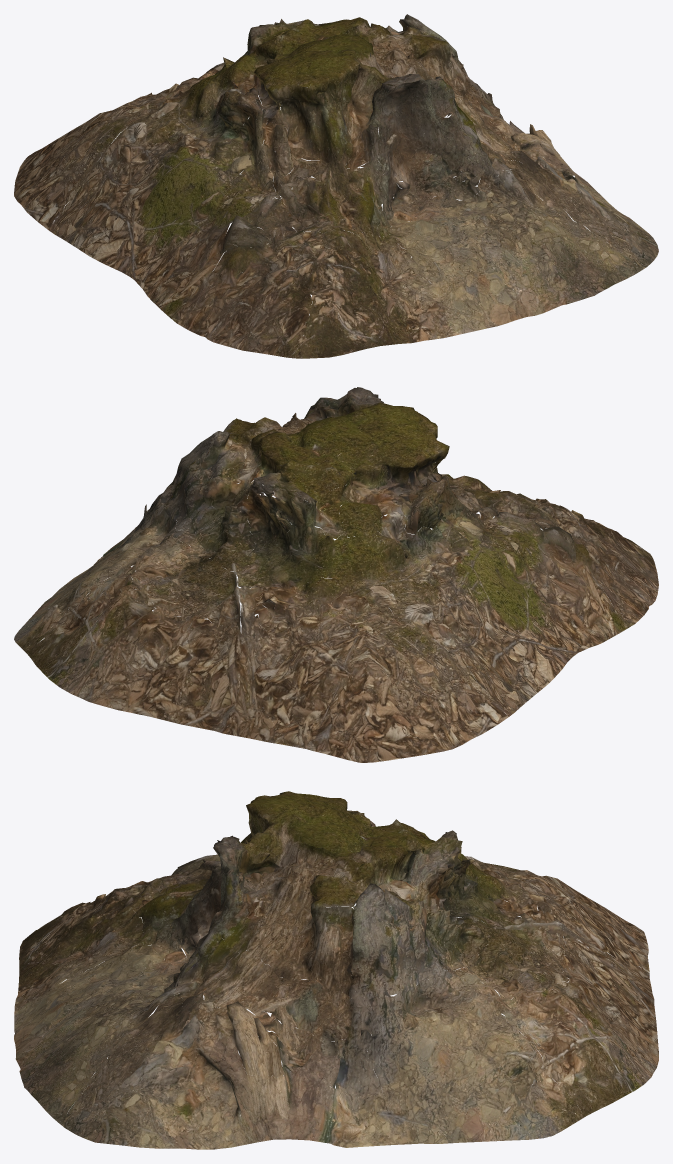
The model's file is tree_stump_01.glb.
3 renders of one model, top to bottom at view 1: azimuth 30°, elevation 25°; view 2: azimuth 150°, elevation 25°; view 3: azimuth 270°, elevation 25°, orthographic. The views are drawn at different scales.
Parts seen in each view (by area): view 1: tree_stump_01; view 2: tree_stump_01; view 3: tree_stump_01.
Boxes of the visible parts, x1=… form: tree_stump_01: x1=14, y1=14, x2=658, y2=358; tree_stump_01: x1=14, y1=387, x2=658, y2=762; tree_stump_01: x1=14, y1=791, x2=658, y2=1149.
Bounding box in the file's own units: 1.42 × 0.5732 × 1.59.
1 material, 1 textured.
